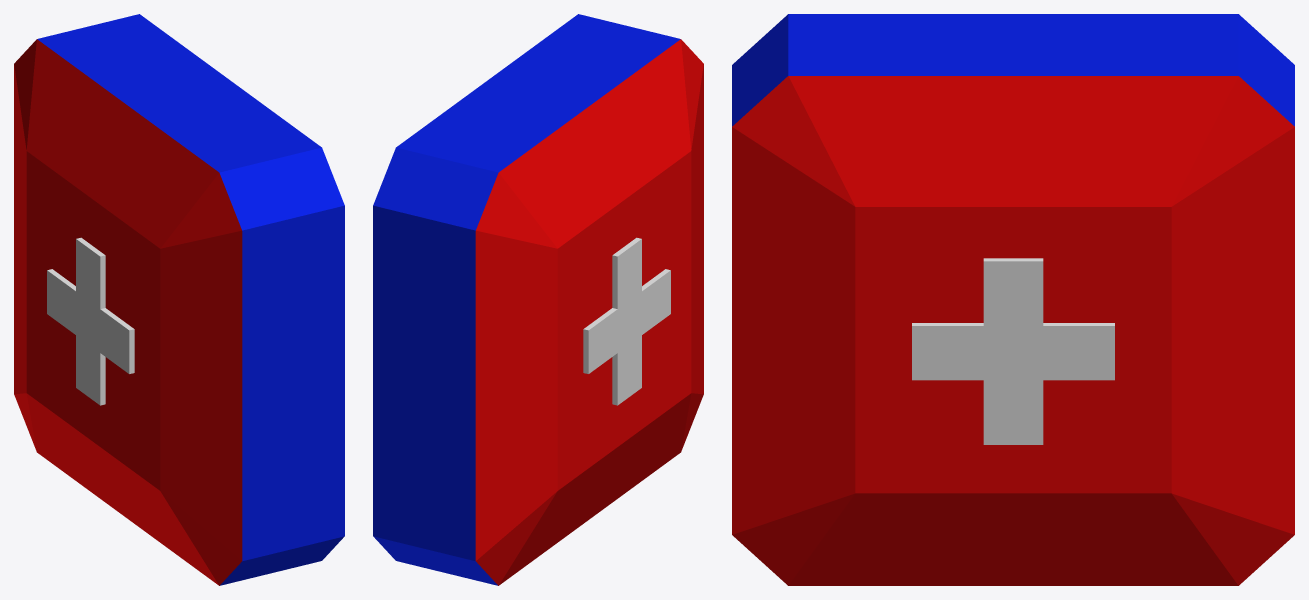
The model's file is HealthPack.fbx.
3 views of the same model, side by side, from view 1: azimuth 30°, elevation 25°; view 2: azimuth 150°, elevation 25°; view 3: azimuth 270°, elevation 25° (orthographic). The views are drawn at different scales.
Visible parts, largest first — view 1: pCube5; view 2: pCube5; view 3: pCube5.
Boxes of the visible parts, x1,y1,x2,y2 form: pCube5: (14,14,344,585); pCube5: (373,14,703,585); pCube5: (732,14,1294,585).
Bounding box in the file's own units: 1.26 × 2.77 × 2.77.
